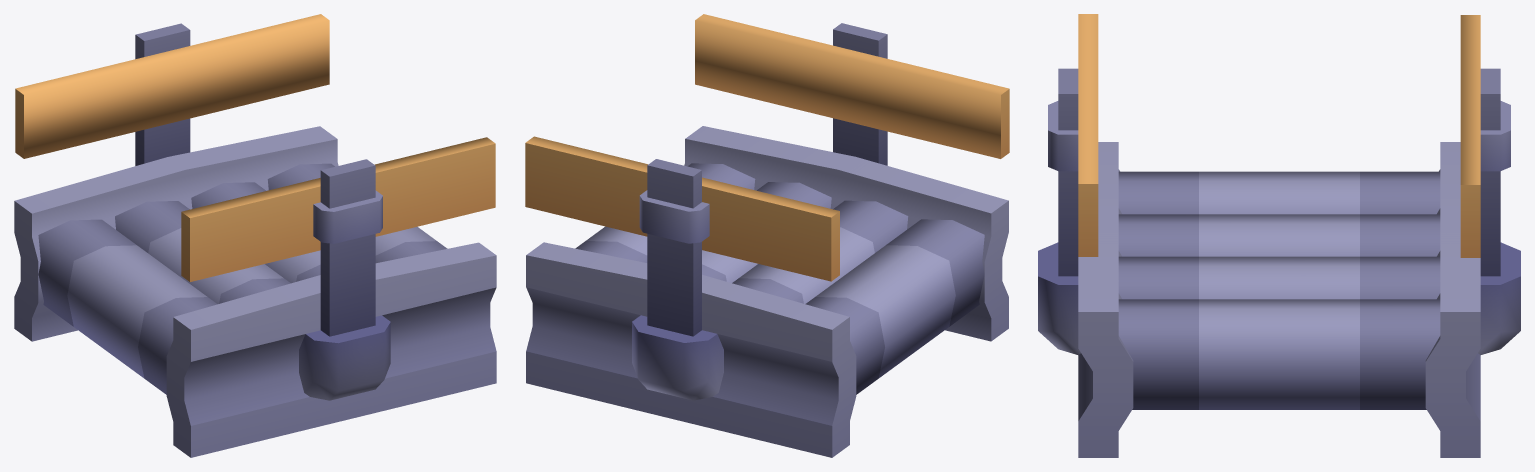
File: kenney-factory-conveyor-bars-stripe-fence.glb
The picture shows the model from 3 angles, left to right: view 1: azimuth 30°, elevation 25°; view 2: azimuth 150°, elevation 25°; view 3: azimuth 270°, elevation 25°; orthographic projection. The views are drawn at different scales.
Visible parts, largest first — view 1: conveyor-bars-stripe-fence; view 2: conveyor-bars-stripe-fence; view 3: conveyor-bars-stripe-fence.
Part boxes in pixels (x1,y1,x2,y2): conveyor-bars-stripe-fence: (14, 14, 496, 457); conveyor-bars-stripe-fence: (525, 14, 1009, 457); conveyor-bars-stripe-fence: (1038, 14, 1520, 457).
Bounding box in the file's own units: 1.51 × 1.2 × 1.8.
Materials: 1 (1 with a texture image).
